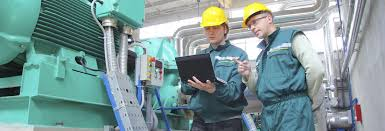Person_wearing_helmet: (194, 5, 230, 35), (244, 2, 277, 28)
